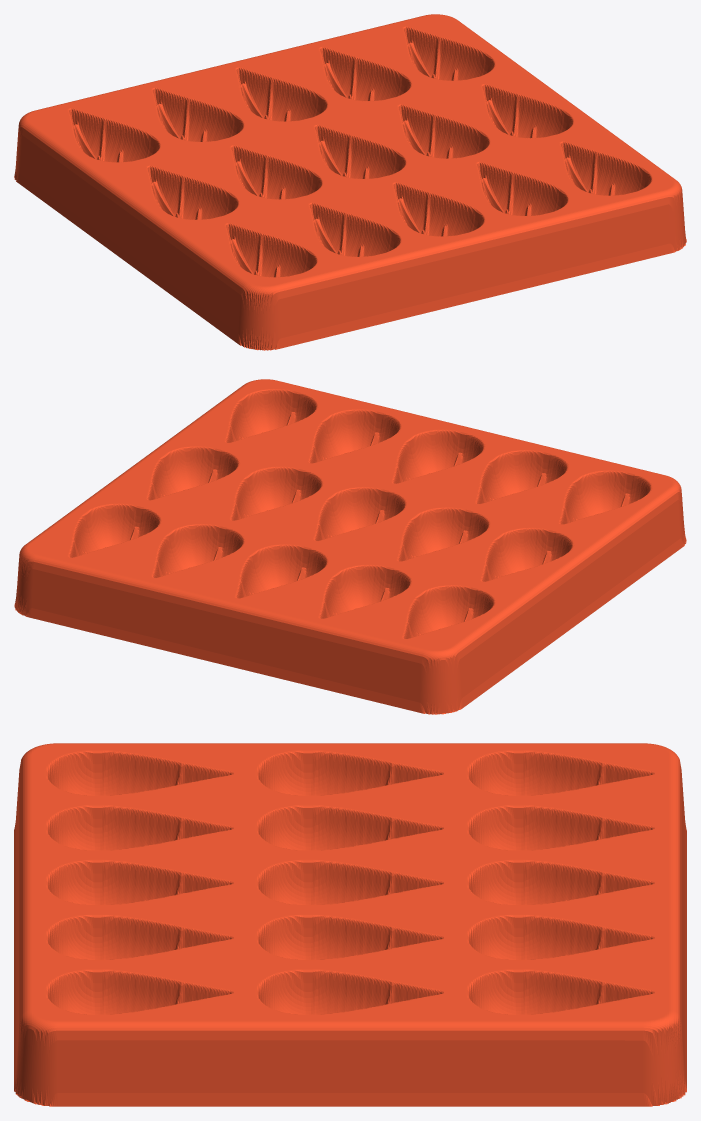
File: mold.glb
3 renders of one model, top to bottom at view 1: azimuth 30°, elevation 25°; view 2: azimuth 150°, elevation 25°; view 3: azimuth 270°, elevation 25°, orthographic. The views are drawn at different scales.
Visible parts, largest first — view 1: geometry_0; view 2: geometry_0; view 3: geometry_0.
Part boxes in pixels (<box>): geometry_0: <box>14,14,686,350</box>; geometry_0: <box>14,379,686,714</box>; geometry_0: <box>14,743,686,1106</box>.
Bounding box in the file's own units: 0.1449 × 0.0182 × 0.1415.
